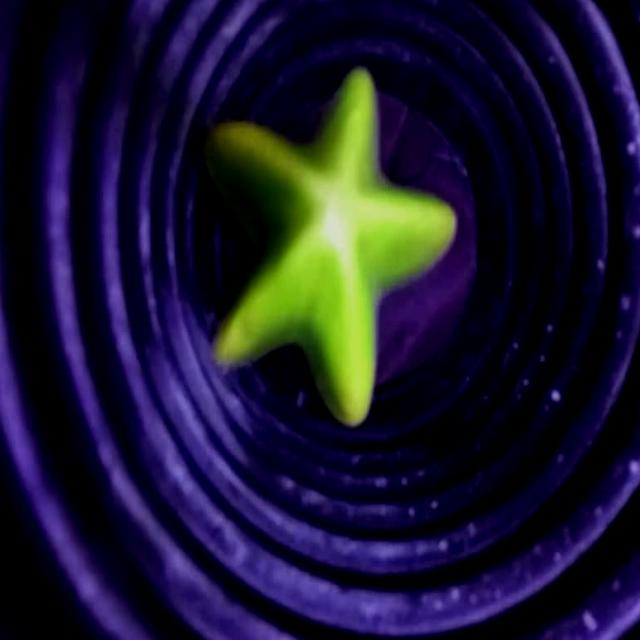obstacles: (200, 61, 457, 425)
